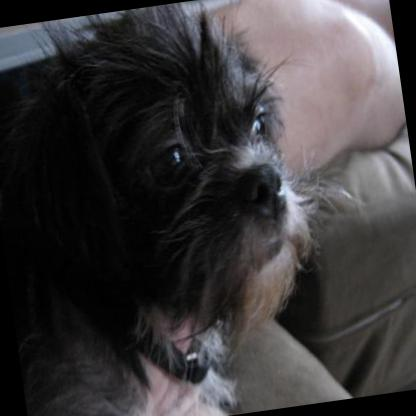affenpinscher: (0, 0, 393, 416)
